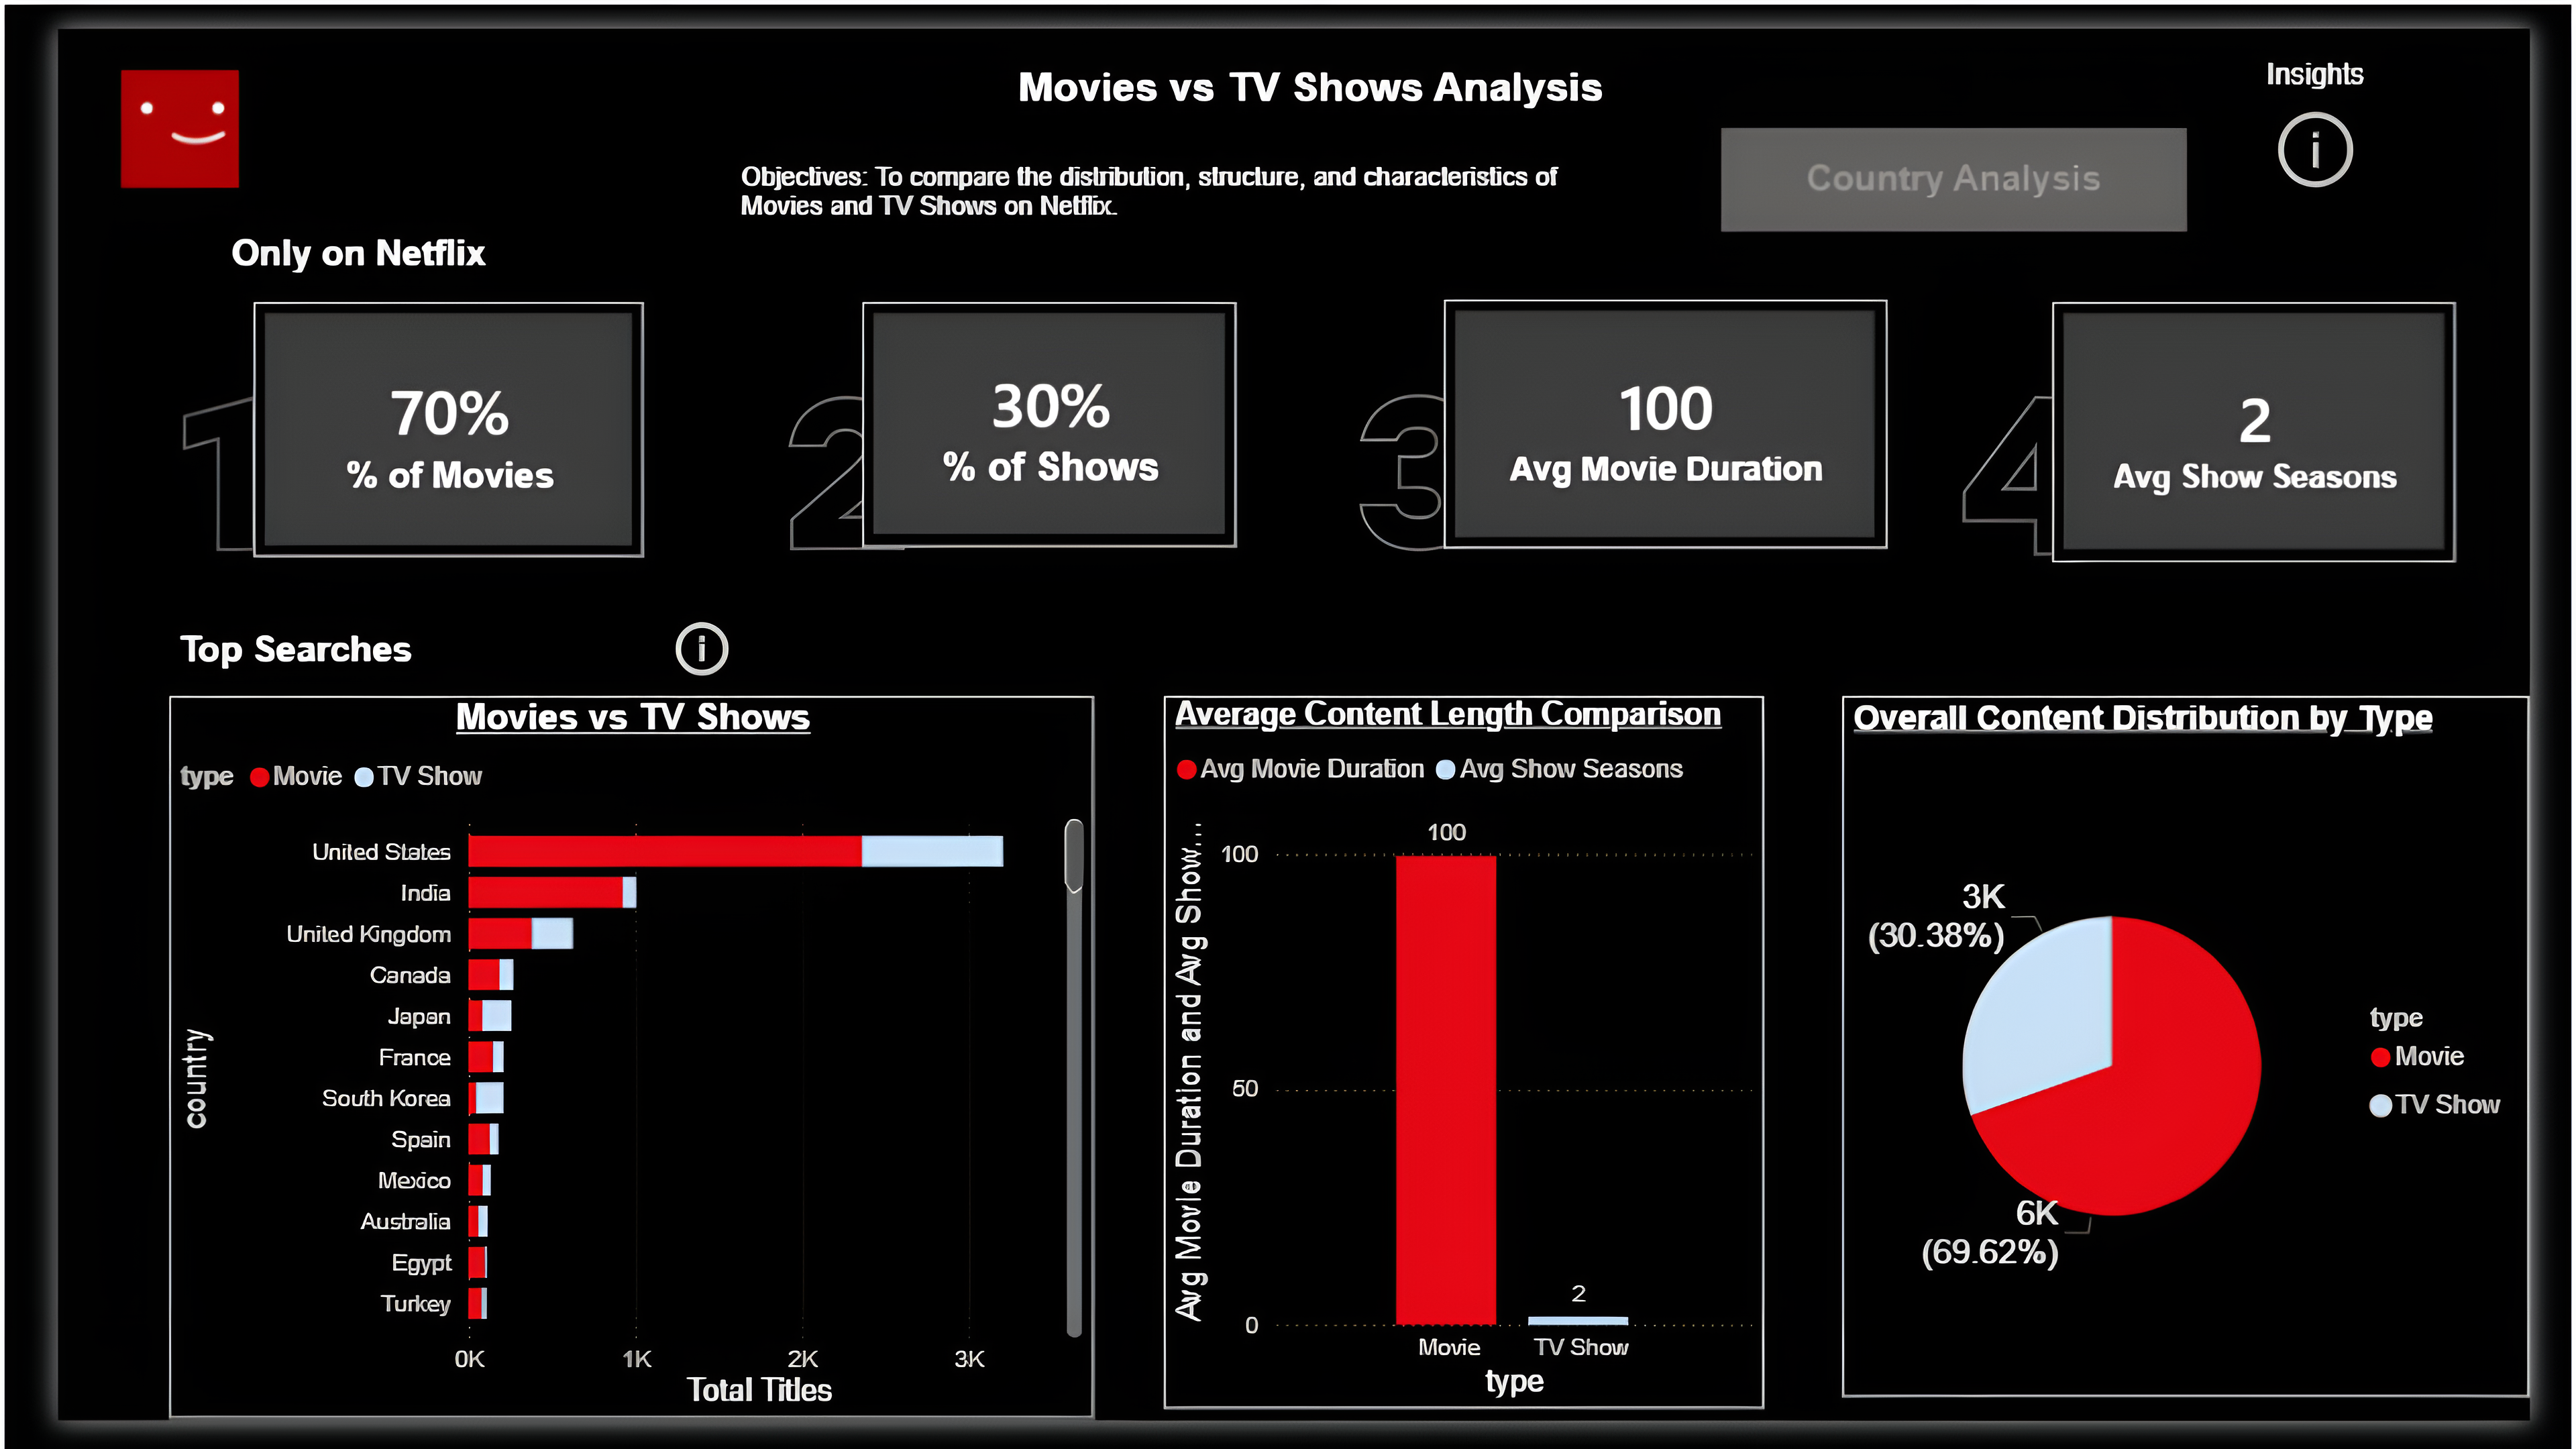

This screenshot's page, from the dashboard's own definition file:
{"tool":"powerbi","page":{"name":"TV Shows vs Movies Comparison","canvas":[1280,720],"ordinal":2},"visuals":[{"type":"pieChart","title":"Overall Content Distribution by Type","fields":{"Category":["netflix titles.type"],"Y":["CountNonNull(netflix titles.title)"]},"box":[923.5,345.5,356.5,363.4],"z":0},{"type":"image","box":[32,150.4,110.1,162.8],"z":500,"group":"g1"},{"type":"image","box":[28.9,20.6,68.8,60.6],"z":1000},{"type":"cardVisual","fields":{"Data":["Shows vs Movies measures.% of Movies"]},"box":[101.3,141.8,202.3,132.1],"z":1000,"group":"g1"},{"type":"image","box":[352.7,148.7,110.1,163.8],"z":1500,"group":"g1"},{"type":"textbox","box":[492.7,13.8,375.7,38.5],"z":2000},{"type":"cardVisual","fields":{"Data":["Shows vs Movies measures.% of Shows"]},"box":[416,141.3,194.1,126.6],"z":2000,"group":"g1"},{"type":"barChart","title":"Movies vs TV Shows","fields":{"Category":["netflix titles.country"],"Y":["Home Measures.Total Titles"],"Series":["netflix titles.type"]},"box":[57.8,345.5,479,374.4],"z":3000},{"type":"image","box":[650,148.4,110.1,162.4],"z":3500,"group":"g1"},{"type":"actionButton","title":"Insights","box":[1143.7,16.5,67.4,71.6],"z":4000},{"type":"cardVisual","fields":{"Data":["Home Measures.Avg Movie Duration"]},"box":[717.4,140.1,229.8,129.4],"z":4000,"group":"g1"},{"type":"group","id":"g1","title":"Group 1","box":[32,140.1,1209.8,181.4],"z":5000},{"type":"image","box":[961.6,141,115.8,180.5],"z":5000,"group":"g1"},{"type":"textbox","box":[348.2,63.3,470.7,41.3],"z":6000},{"type":"cardVisual","fields":{"Data":["Shows vs Movies measures.Avg Show Seasons"]},"box":[1032.6,141.5,209.2,134.9],"z":6000,"group":"g1"},{"type":"columnChart","title":"Average Content Length Comparison","fields":{"Category":["netflix titles.type"],"Y":["Shows vs Movies measures.Avg Movie Duration","Shows vs Movies measures.Avg Show Seasons"]},"box":[572.6,345.5,311.1,368.9],"z":7000},{"type":"textbox","box":[85.3,100.5,214.7,39.9],"z":8000},{"type":"textbox","box":[57.8,305.5,214.7,39.9],"z":9000},{"type":"actionButton","box":[861.6,50.9,240.9,53.7],"z":10000},{"type":"actionButton","box":[315.2,301.4,37.2,39.9],"z":11000}]}

Visuals, with their boxes in screenshot pixels (x1, y1, x2, y2), scaled from the page's 1280x720 canvas onto the 2576x1449 screenshot:
"Overall Content Distribution by Type" pieChart: region(1858, 695, 2575, 1427)
image: region(64, 303, 286, 631)
image: region(58, 42, 197, 164)
cardVisual - Shows vs Movies measures.% of Movies: region(204, 285, 611, 551)
image: region(710, 299, 931, 629)
textbox: region(991, 28, 1748, 105)
cardVisual - Shows vs Movies measures.% of Shows: region(837, 284, 1228, 539)
"Movies vs TV Shows" barChart: region(116, 695, 1080, 1448)
image: region(1308, 299, 1529, 625)
"Insights" actionButton: region(2302, 34, 2437, 177)
cardVisual - Home Measures.Avg Movie Duration: region(1444, 282, 1907, 542)
"Group 1" group: region(64, 282, 2499, 647)
image: region(1935, 284, 2168, 647)
textbox: region(701, 127, 1648, 211)
cardVisual - Shows vs Movies measures.Avg Show Seasons: region(2078, 284, 2499, 556)
"Average Content Length Comparison" columnChart: region(1152, 695, 1778, 1438)
textbox: region(172, 203, 604, 282)
textbox: region(116, 614, 549, 695)
actionButton: region(1734, 103, 2219, 211)
actionButton: region(635, 606, 709, 687)
